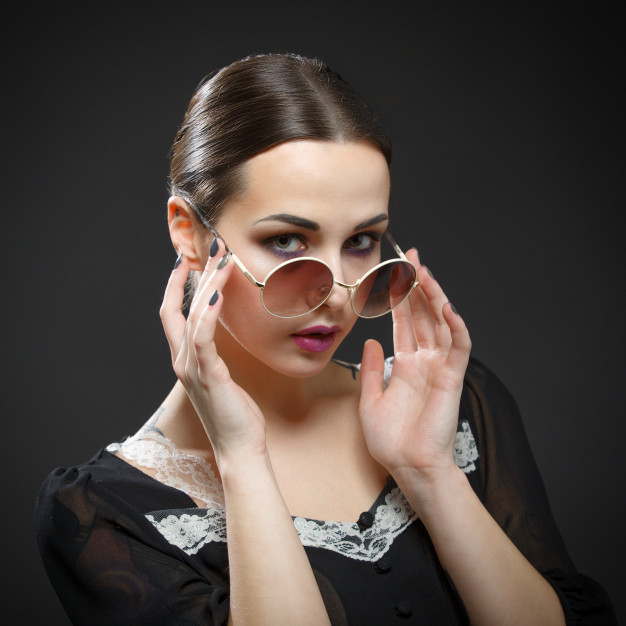glasses: (250, 244, 429, 330)
